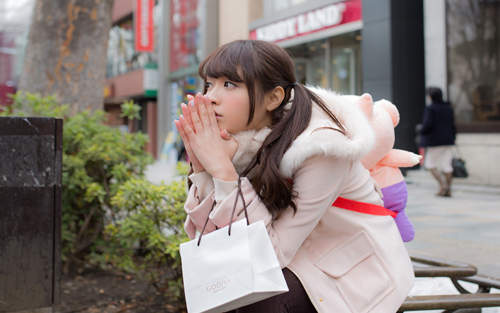face: (203, 67, 252, 138)
